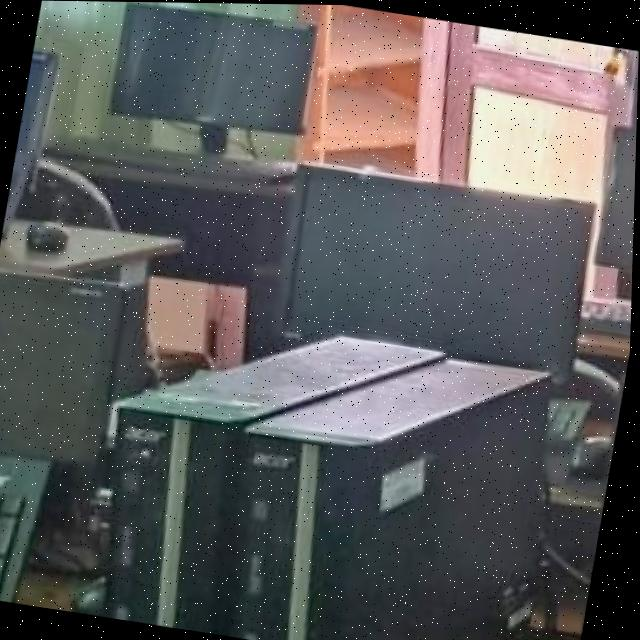offscreen: (287, 167, 594, 371), (111, 3, 315, 132), (0, 275, 121, 460), (598, 130, 637, 266)
